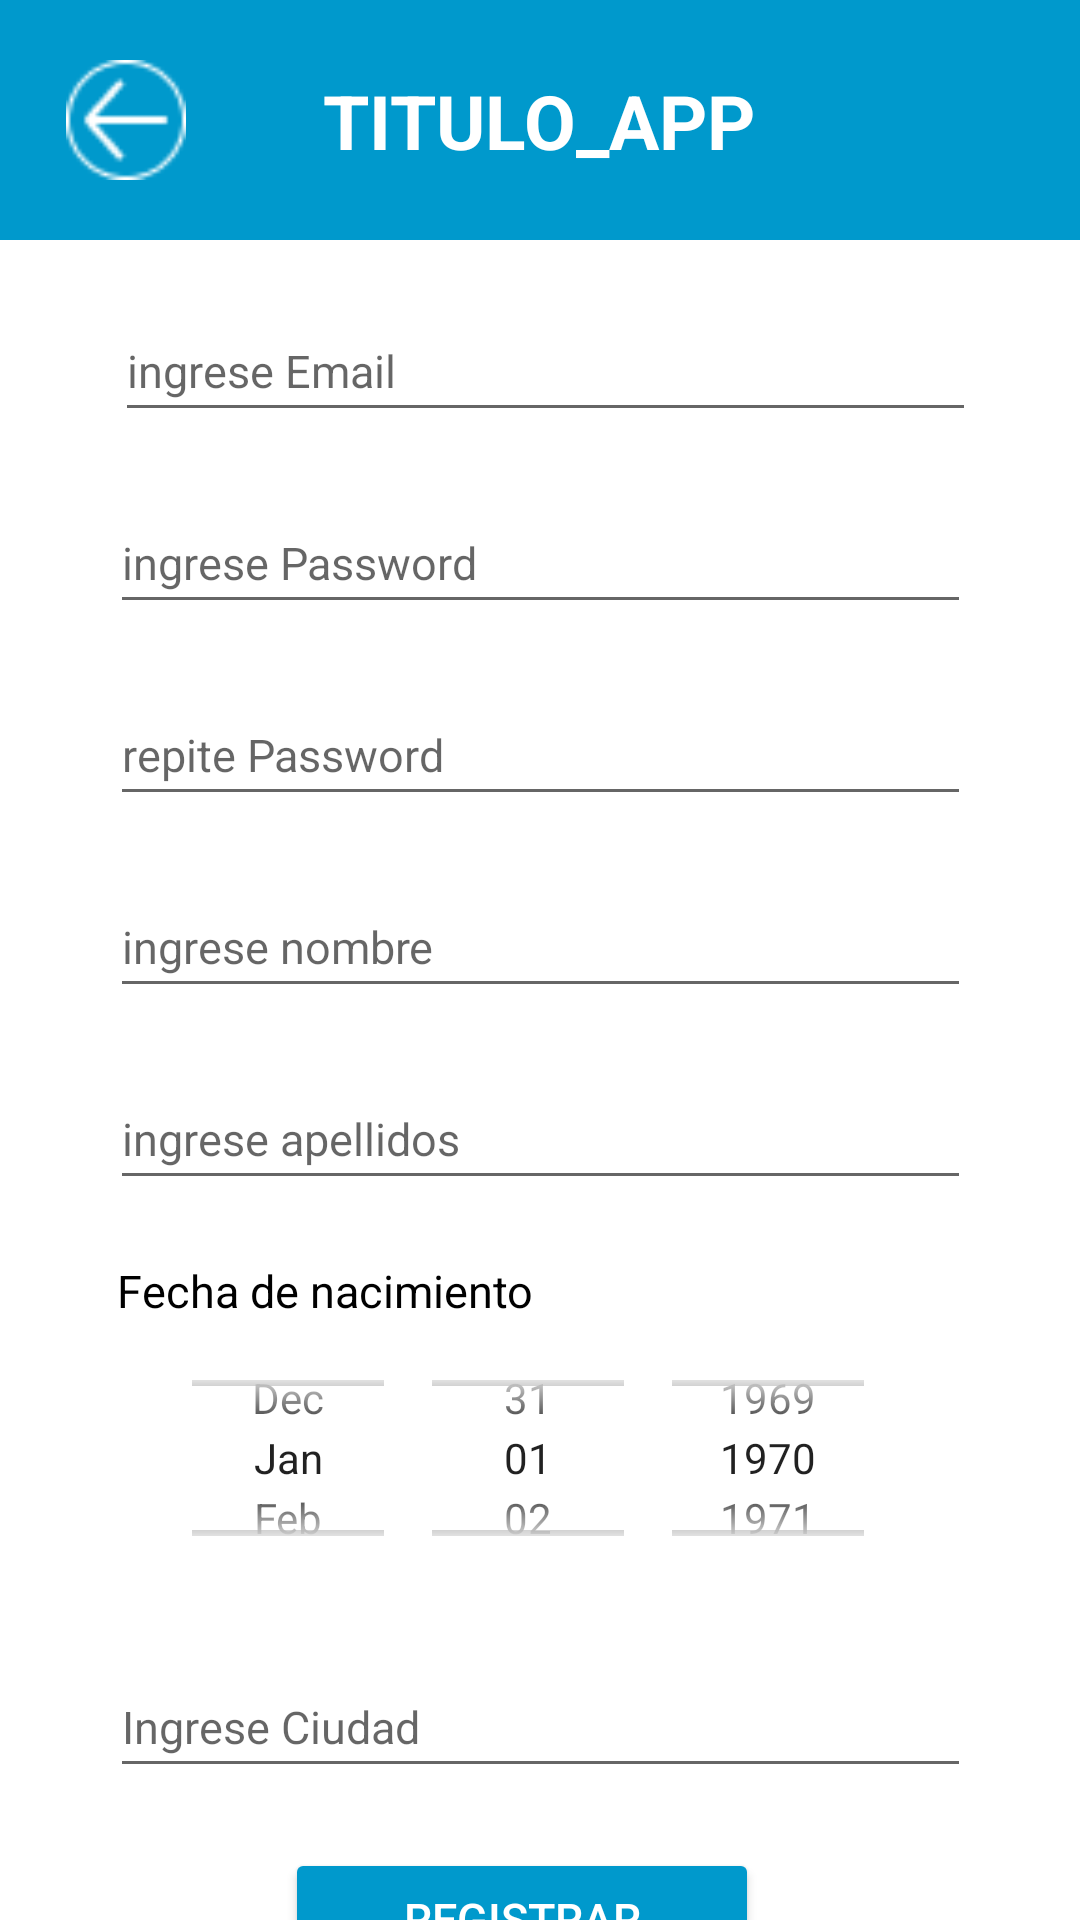

Screen size 1080w x 1920h. Icon name, then its center in pixels as (x=x, y=y):
back: (x=126, y=120)
